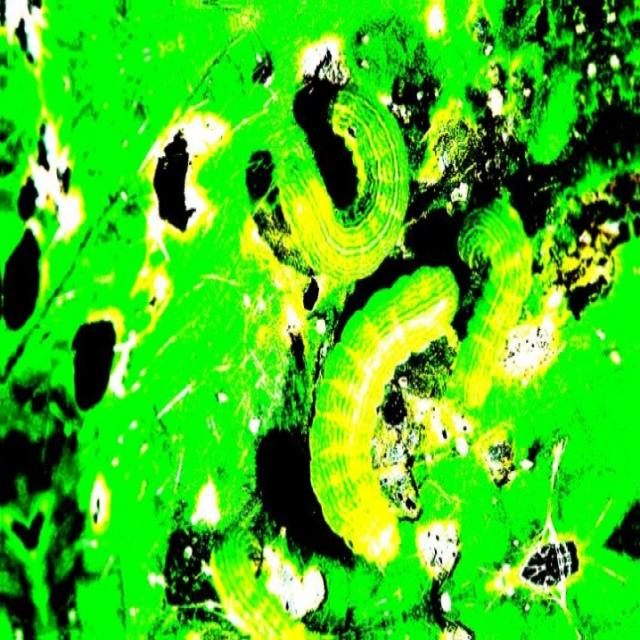Armyworm: (301, 266, 465, 568), (267, 72, 417, 289)
